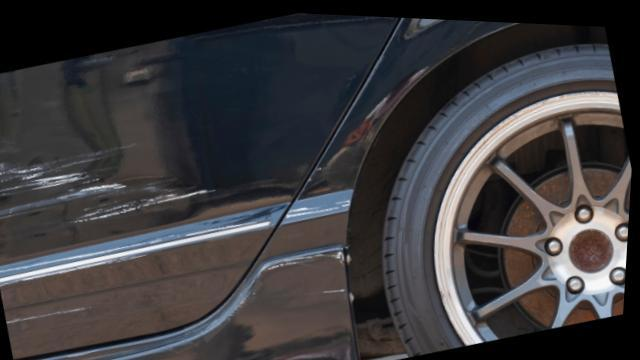scratch: (0, 141, 229, 335), (229, 246, 344, 322)
